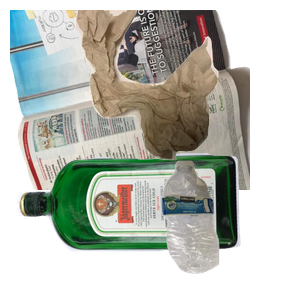glass: (14, 150, 247, 300)
paper: (10, 10, 250, 190)
plastic: (159, 158, 300, 300)
trash: (73, 10, 300, 163)
